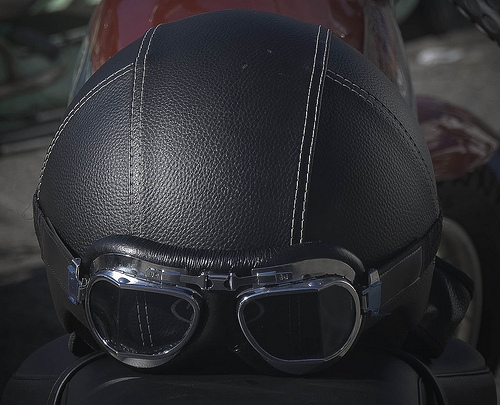helmet: (30, 37, 465, 371)
